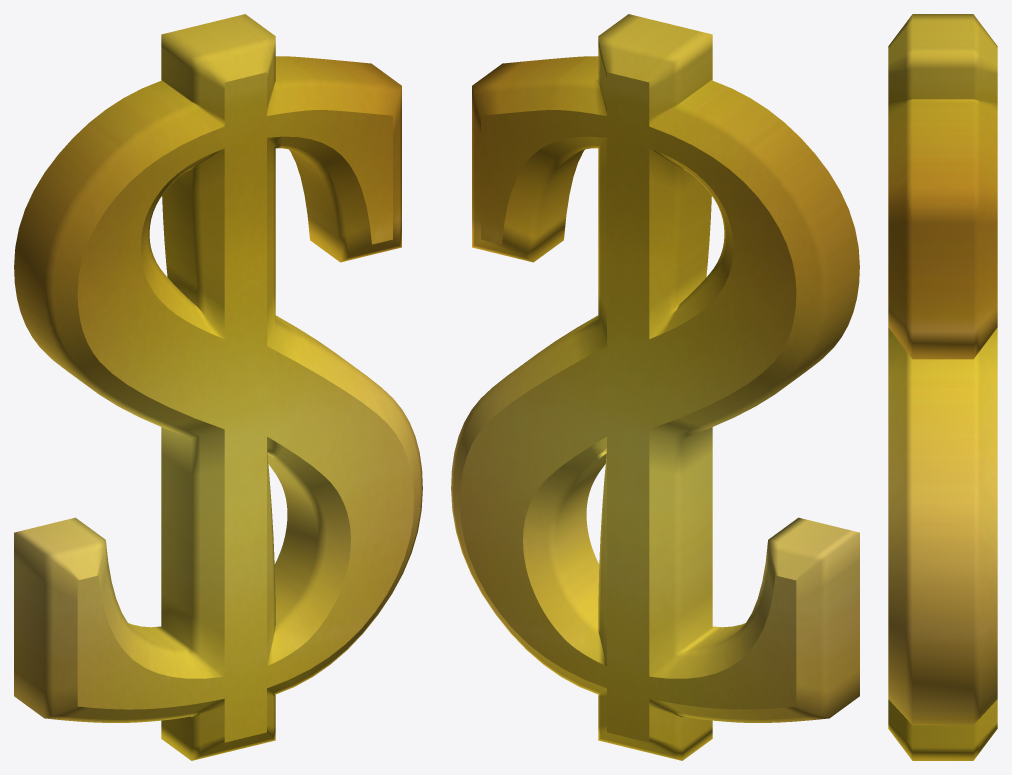
File: dollar.fbx
3 renders of one model, left to right at view 1: azimuth 30°, elevation 25°; view 2: azimuth 150°, elevation 25°; view 3: azimuth 270°, elevation 25°, orthographic.
Visible parts, largest first — view 1: polySurface1; view 2: polySurface1; view 3: polySurface1.
Part boxes in pixels (x1,y1,x2,y2): polySurface1: (14,14,422,760); polySurface1: (451,14,859,760); polySurface1: (888,14,997,760).
Size of the model in its own units: 1.8 by 3.2 by 0.45.
Materials: 1 (1 with a texture image).
